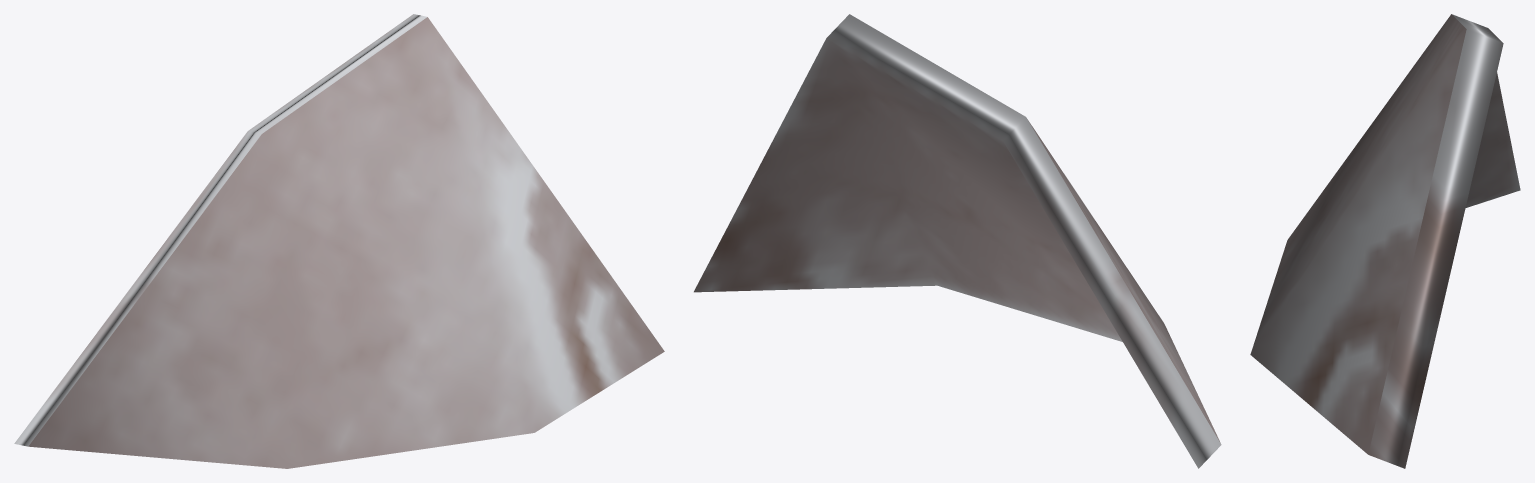
The model's file is Asset_BreakPiece_B_01.fbx.
3 views of the same model, side by side, from view 1: azimuth 30°, elevation 25°; view 2: azimuth 150°, elevation 25°; view 3: azimuth 270°, elevation 25° (orthographic). The views are drawn at different scales.
Visible parts, largest first — view 1: Asset_BreakPiece_B_01; view 2: Asset_BreakPiece_B_01; view 3: Asset_BreakPiece_B_01.
Part boxes in pixels (x1,y1,x2,y2): Asset_BreakPiece_B_01: [14, 14, 664, 468]; Asset_BreakPiece_B_01: [694, 14, 1221, 468]; Asset_BreakPiece_B_01: [1250, 14, 1520, 468].
Bounding box in the file's own units: 174 × 102 × 71.55.
